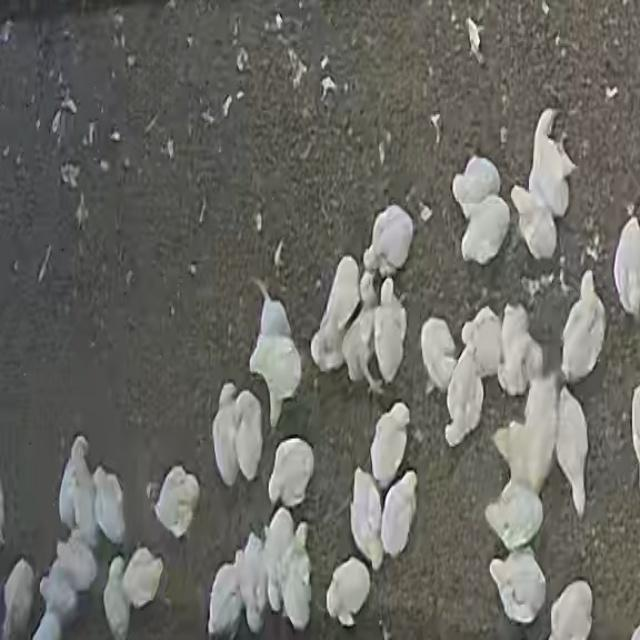chicken: (491, 372, 558, 501), (249, 282, 301, 427), (310, 255, 361, 373), (526, 109, 576, 219), (560, 270, 606, 382), (554, 386, 589, 516), (488, 548, 546, 626), (442, 348, 484, 448), (28, 564, 82, 639), (484, 483, 543, 551), (347, 275, 381, 391), (497, 304, 539, 395), (372, 276, 406, 388), (278, 522, 313, 630), (59, 435, 95, 539), (510, 185, 558, 263), (369, 401, 410, 491), (458, 195, 510, 265), (366, 203, 414, 276), (267, 438, 315, 510), (324, 556, 372, 628), (263, 508, 296, 612), (380, 470, 418, 559), (350, 468, 384, 567), (154, 466, 200, 538), (462, 306, 504, 384), (207, 383, 238, 488), (46, 536, 99, 595), (544, 581, 594, 639), (208, 556, 243, 638), (92, 465, 127, 546), (420, 317, 457, 393), (612, 216, 640, 315), (120, 546, 163, 610), (240, 531, 268, 627), (2, 559, 36, 637), (452, 156, 502, 208), (103, 556, 131, 638), (238, 388, 262, 482)
